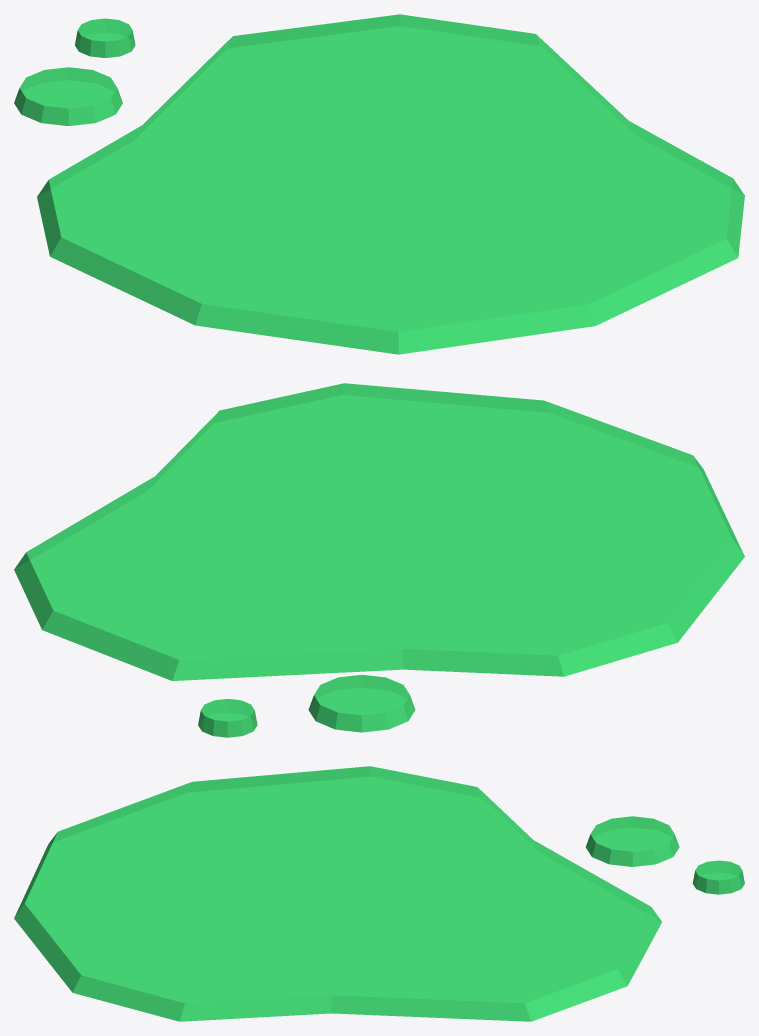
File: goop.fbx
The picture shows the model from 3 angles, top to bottom: view 1: azimuth 30°, elevation 25°; view 2: azimuth 150°, elevation 25°; view 3: azimuth 270°, elevation 25°; orthographic projection. The views are drawn at different scales.
Parts seen in each view (by area): view 1: Goop; view 2: Goop; view 3: Goop.
Boxes of the visible parts, x1=… form: Goop: x1=14, y1=14, x2=744, y2=354; Goop: x1=14, y1=383, x2=744, y2=737; Goop: x1=14, y1=766, x2=744, y2=1021.
Size of the model in its own units: 165 by 4.65 by 208.
